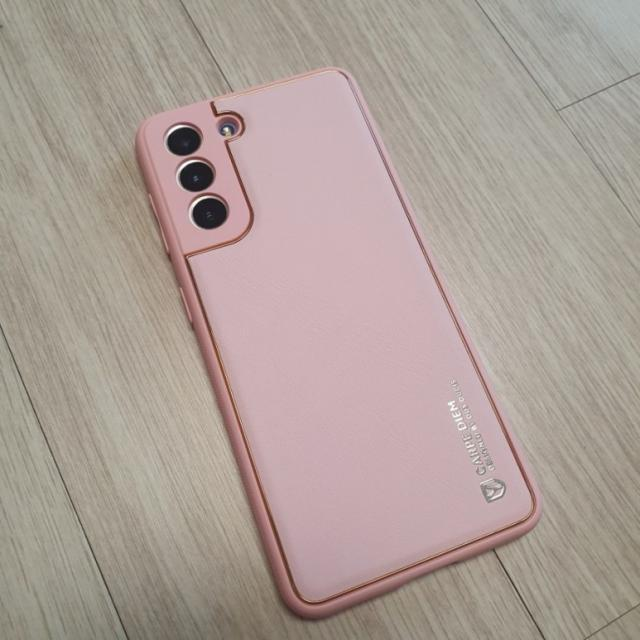phone: (132, 62, 542, 622)
